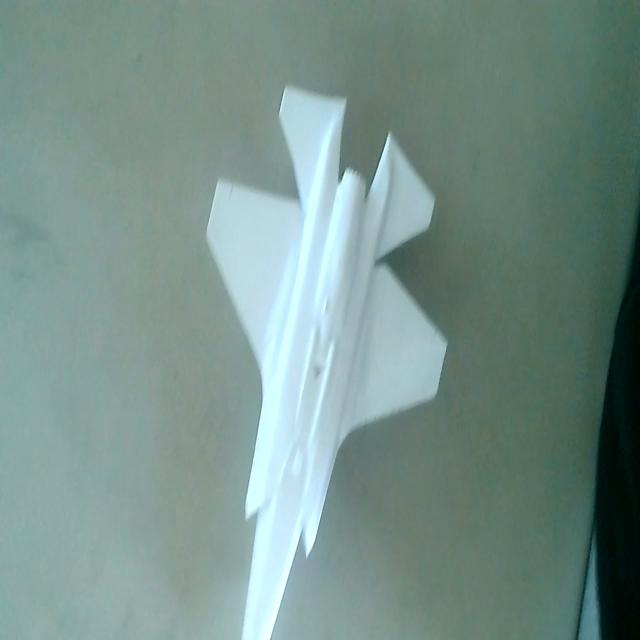Jet: (202, 79, 450, 640)
